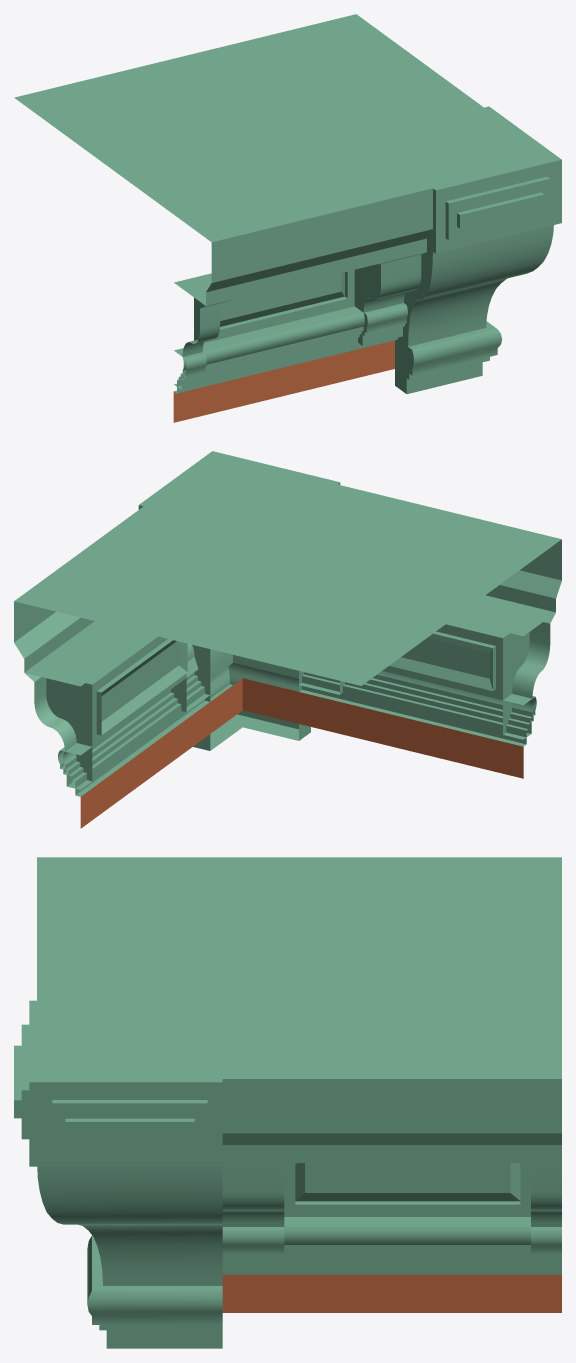
Rendered from object_B2_Roof_corner.glb.
The picture shows the model from 3 angles, top to bottom: view 1: azimuth 30°, elevation 25°; view 2: azimuth 150°, elevation 25°; view 3: azimuth 270°, elevation 25°; orthographic projection. The views are drawn at different scales.
Visible parts, largest first — view 1: B2 Roof corner; view 2: B2 Roof corner; view 3: B2 Roof corner.
Boxes of the visible parts, left/top/right/bottom form: B2 Roof corner: left=14, top=14, right=561, bottom=422; B2 Roof corner: left=14, top=451, right=561, bottom=828; B2 Roof corner: left=14, top=857, right=561, bottom=1348.
Bounding box in the file's own units: 3.55 × 2.14 × 3.55.
